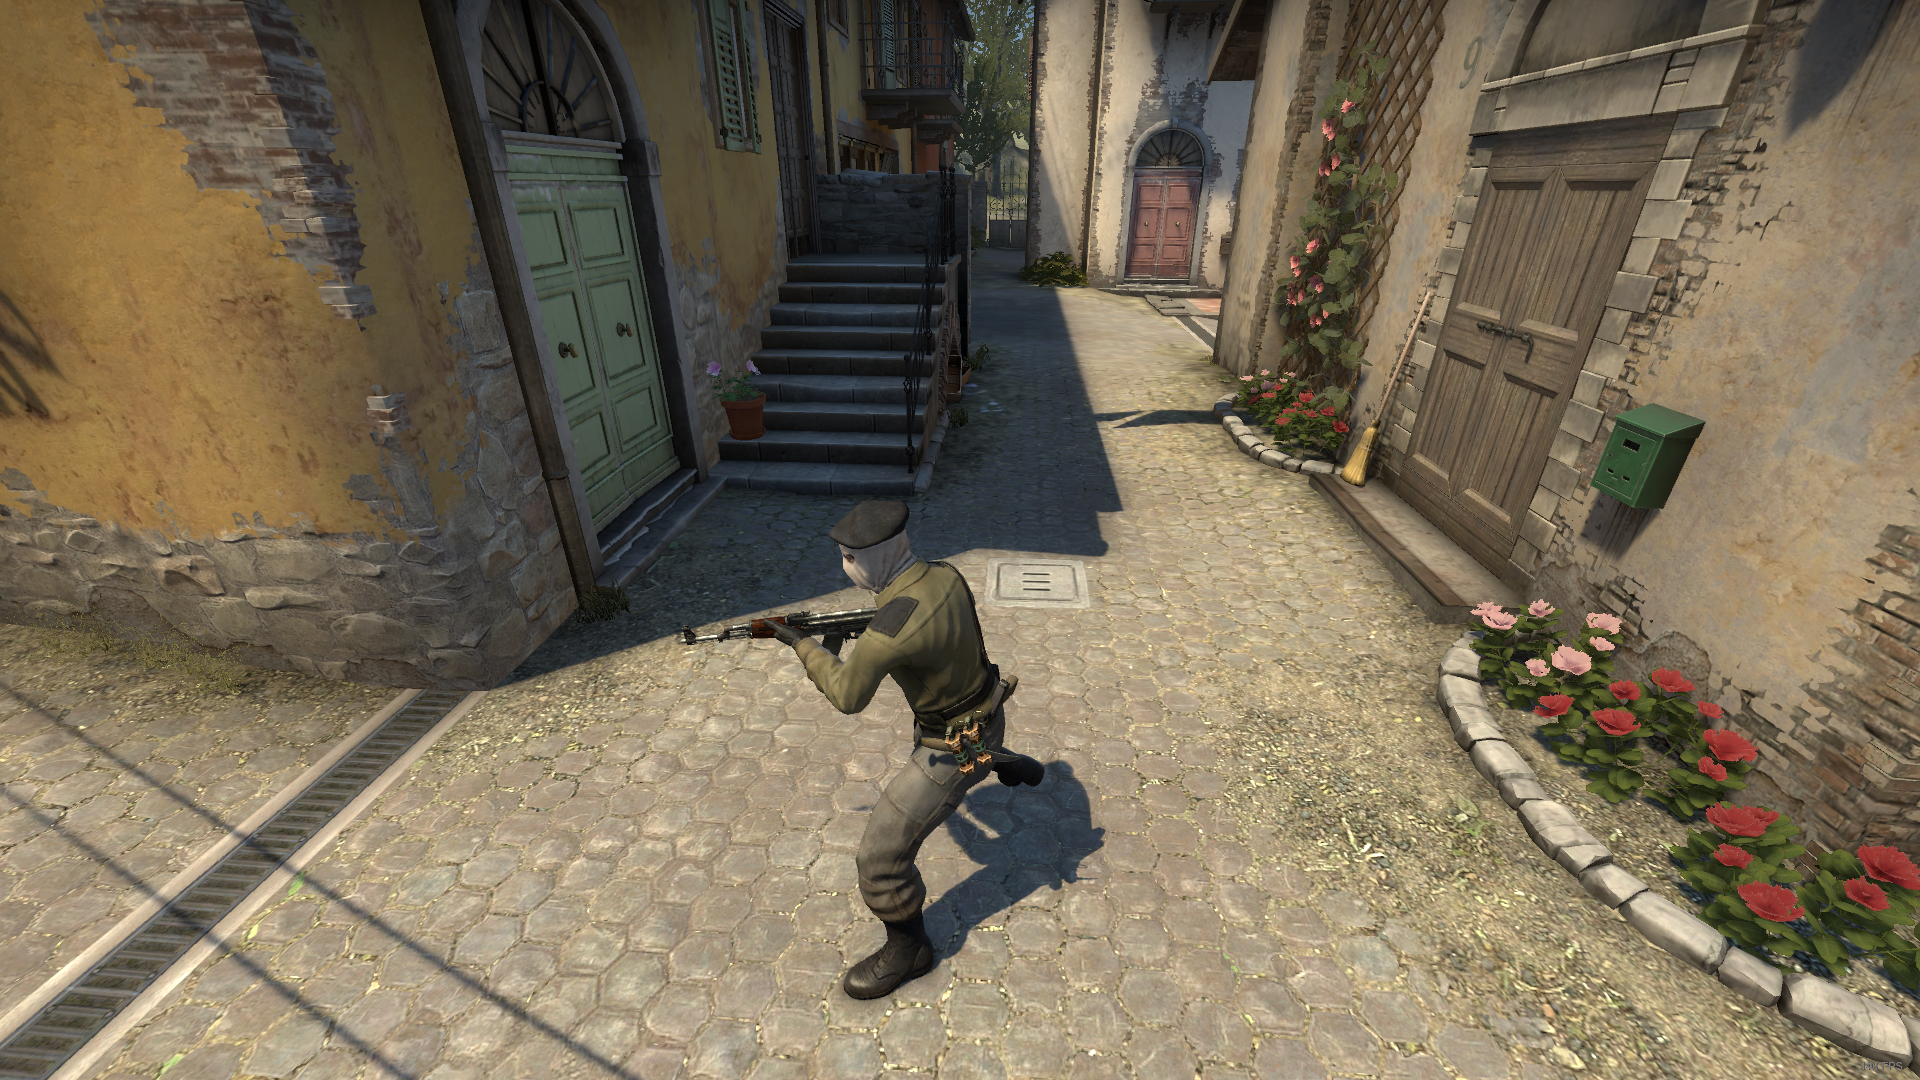t: (774, 497, 1044, 1000)
